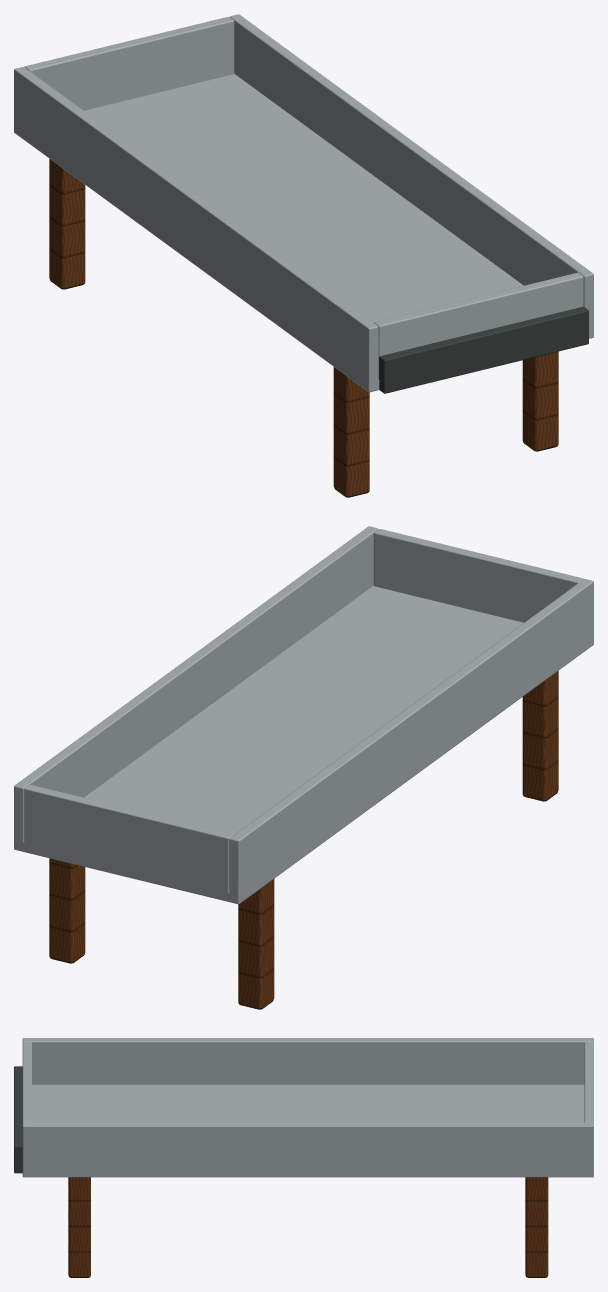
Rendered from prehistoric-expedition-sites-spoil-chute-67ead5cb__26106.glb.
The picture shows the model from 3 angles, top to bottom: view 1: azimuth 30°, elevation 25°; view 2: azimuth 150°, elevation 25°; view 3: azimuth 270°, elevation 25°; orthographic projection. The views are drawn at different scales.
Visible parts, largest first — view 1: spoil-chute; view 2: spoil-chute; view 3: spoil-chute.
Part boxes in pixels (x1,y1,x2,y2): spoil-chute: (14, 14, 593, 497); spoil-chute: (14, 526, 593, 1009); spoil-chute: (14, 1038, 593, 1277).
Bounding box in the file's own units: 0.5499 × 0.45 × 1.52.
Materials: 3 (1 with a texture image).
